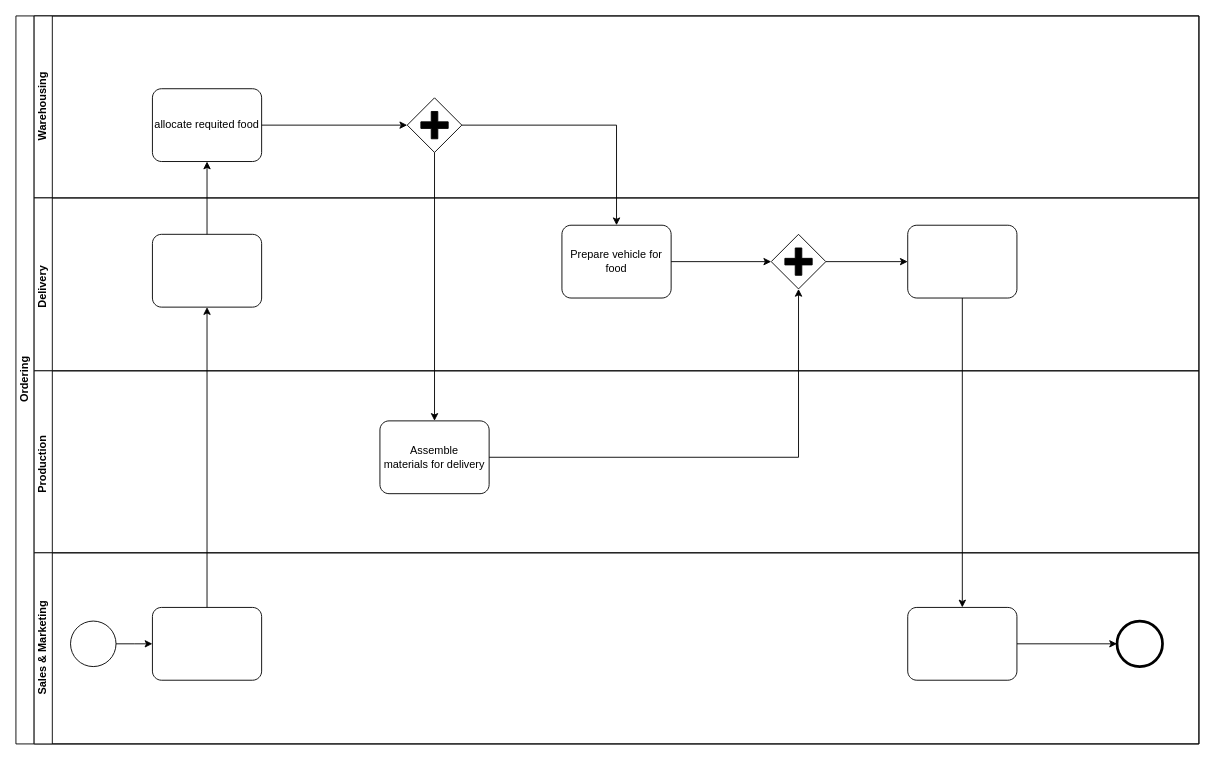
This 1215x760 diagram has some shape labels left out. Here are the shapes that lost their labels. From the top down, the centre of each, then its label:
[207,270]: Schedule collection of assembled orders
[962,261]: send to flight
[207,643]: reveive order from airline
[962,643]: Flight Confirm food arrived
